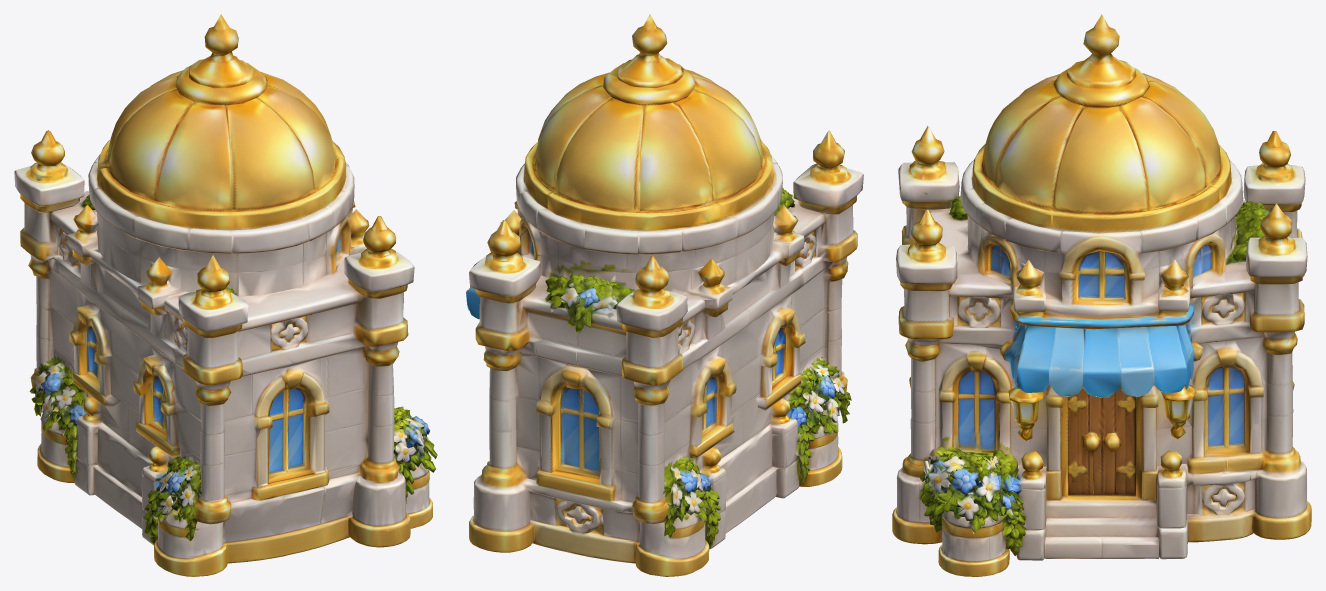
The model's file is HaloDomeHouse_02_HD_src.glb.
The picture shows the model from 3 angles, left to right: view 1: azimuth 30°, elevation 25°; view 2: azimuth 150°, elevation 25°; view 3: azimuth 270°, elevation 25°; orthographic projection.
Parts seen in each view (by area): view 1: tripo_node_493d1ce3-93a3-4320-9353-363569225502; view 2: tripo_node_493d1ce3-93a3-4320-9353-363569225502; view 3: tripo_node_493d1ce3-93a3-4320-9353-363569225502.
Boxes of the visible parts, left/top/right/bottom form: tripo_node_493d1ce3-93a3-4320-9353-363569225502: left=14, top=14, right=437, bottom=576; tripo_node_493d1ce3-93a3-4320-9353-363569225502: left=466, top=14, right=863, bottom=576; tripo_node_493d1ce3-93a3-4320-9353-363569225502: left=892, top=14, right=1311, bottom=576.
Size of the model in its own units: 0.5794 by 0.9726 by 0.7499.
Materials: 1 (1 with a texture image).
